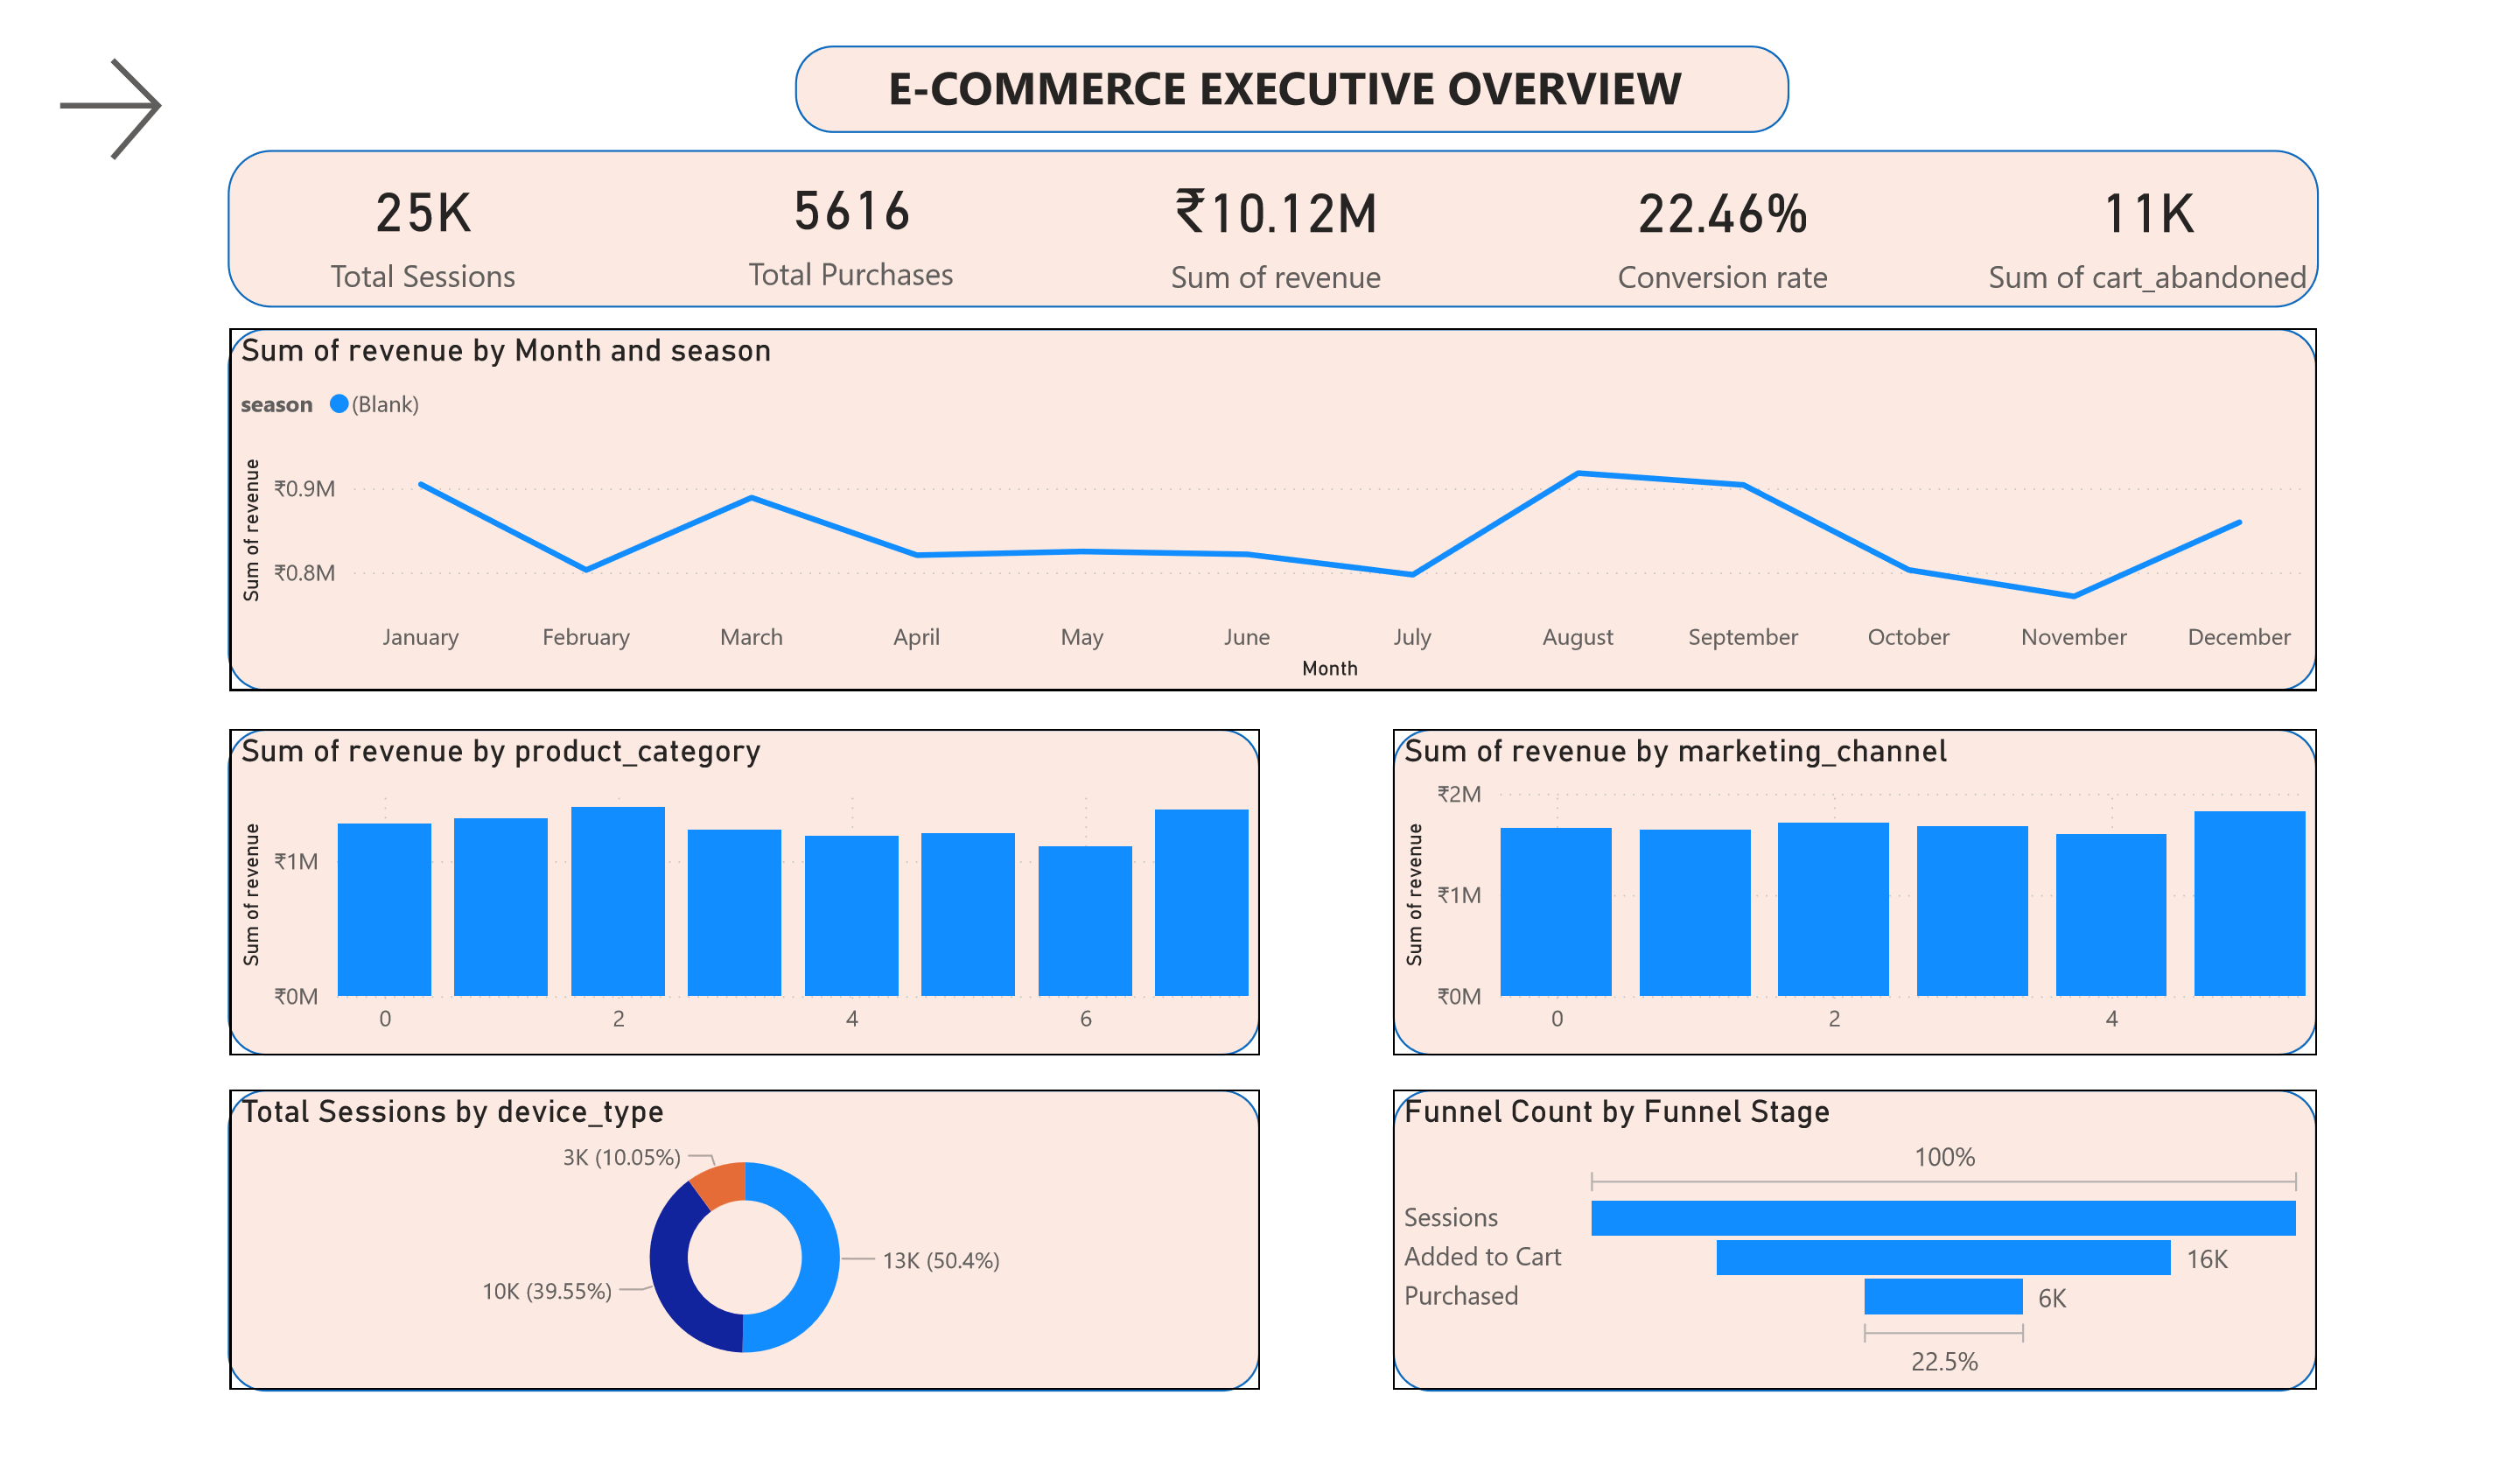

The page's visual inventory and layout, read from the dashboard file:
{"tool":"powerbi","page":{"name":"Page 1","canvas":[1280,720],"ordinal":0},"visuals":[{"type":"shape","box":[96.2,55,1101.2,82.5],"z":2000},{"type":"card","fields":{"Values":["Measures (2).Total Sessions"]},"box":[96.7,55.6,204.2,81],"z":3000},{"type":"card","fields":{"Values":["Measures (2).Conversion rate"]},"box":[783.8,56.2,200,81.2],"z":4000},{"type":"card","fields":{"Values":["Sum(gold fact_session.revenue)"]},"box":[547.5,56.2,201.2,81.2],"z":5000},{"type":"card","fields":{"Values":["Measures (2).Total Purchases"]},"box":[327.5,55,193.8,81.2],"z":6000},{"type":"group","id":"g1","title":"Group 1","box":[96.2,148.8,1101.2,560],"z":7000},{"type":"lineChart","fields":{"Y":["Sum(gold fact_session.revenue)"],"Series":["gold dim_date.season"],"Category":["gold dim_date.full_date.Variation.Date Hierarchy.Month"]},"box":[96.7,148.6,1100.8,190.9],"z":8000},{"type":"clusteredColumnChart","fields":{"Category":["gold dim_product.product_category"],"Y":["Sum(gold fact_session.revenue)"]},"box":[96.7,360.1,543.7,171.6],"z":9000},{"type":"clusteredColumnChart","fields":{"Category":["gold dim_marketing.marketing_channel"],"Y":["Sum(gold fact_session.revenue)"]},"box":[710.5,360.1,487,171.6],"z":10000},{"type":"donutChart","fields":{"Category":["gold dim_device.device_type"],"Y":["Measures (2).Total Sessions"]},"box":[96.7,549.8,543.7,158.3],"z":11000},{"type":"funnel","fields":{"Category":["Funnel.Funnel Stage"],"Y":["Funnel.Funnel Count"]},"box":[710.5,549.8,487,158.3],"z":12000},{"type":"card","fields":{"Values":["Sum(gold fact_session.cart_abandoned)"]},"box":[1017.5,56.2,180,81.2],"z":13000},{"type":"shape","box":[395,0,523.8,46.2],"z":14000},{"type":"textbox","box":[395.1,0,523.2,45.9],"z":15000},{"type":"shape","box":[96.2,148.8,1101.2,191.2],"z":15000,"group":"g1"},{"type":"shape","box":[96.2,360,543.8,171.2],"z":16000,"group":"g1"},{"type":"shape","box":[710,550,487.5,158.8],"z":16500,"group":"g1"},{"type":"shape","box":[96.2,550,543.8,158.8],"z":17000,"group":"g1"},{"type":"shape","box":[710,360,487.5,171.2],"z":19000,"group":"g1"}]}

Visuals, with their boxes in screenshot pixels (x1, y1, x2, y2), scaled from the page's 1280x720 canvas onto the 2520x1458 screenshot:
shape: (left=189, top=111, right=2357, bottom=278)
card - Measures (2).Total Sessions: (left=191, top=113, right=592, bottom=277)
card - Measures (2).Conversion rate: (left=1543, top=114, right=1937, bottom=278)
card - Sum(gold fact_session.revenue): (left=1078, top=114, right=1474, bottom=278)
card - Measures (2).Total Purchases: (left=645, top=111, right=1026, bottom=276)
"Group 1" group: (left=189, top=301, right=2357, bottom=1435)
lineChart - Sum(gold fact_session.revenue) x gold dim_date.season: (left=191, top=301, right=2357, bottom=688)
clusteredColumnChart - gold dim_product.product_category x Sum(gold fact_session.revenue): (left=191, top=729, right=1261, bottom=1076)
clusteredColumnChart - gold dim_marketing.marketing_channel x Sum(gold fact_session.revenue): (left=1399, top=729, right=2357, bottom=1076)
donutChart - gold dim_device.device_type x Measures (2).Total Sessions: (left=191, top=1113, right=1261, bottom=1433)
funnel - Funnel.Funnel Stage x Funnel.Funnel Count: (left=1399, top=1113, right=2357, bottom=1433)
card - Sum(gold fact_session.cart_abandoned): (left=2003, top=114, right=2357, bottom=278)
shape: (left=778, top=0, right=1809, bottom=94)
textbox: (left=778, top=0, right=1808, bottom=93)
shape: (left=189, top=301, right=2357, bottom=689)
shape: (left=189, top=729, right=1260, bottom=1076)
shape: (left=1398, top=1114, right=2357, bottom=1435)
shape: (left=189, top=1114, right=1260, bottom=1435)
shape: (left=1398, top=729, right=2357, bottom=1076)
